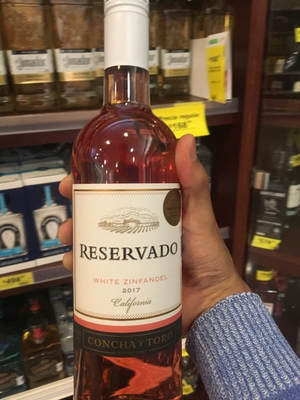reservado white zinfandel: (63, 11, 202, 399)
